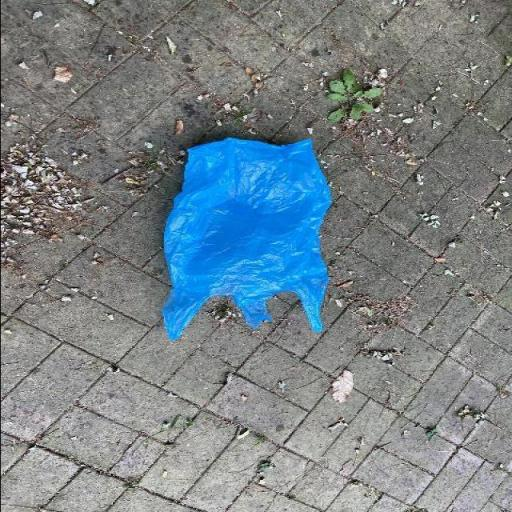plastic-bag: (159, 135, 331, 344)
